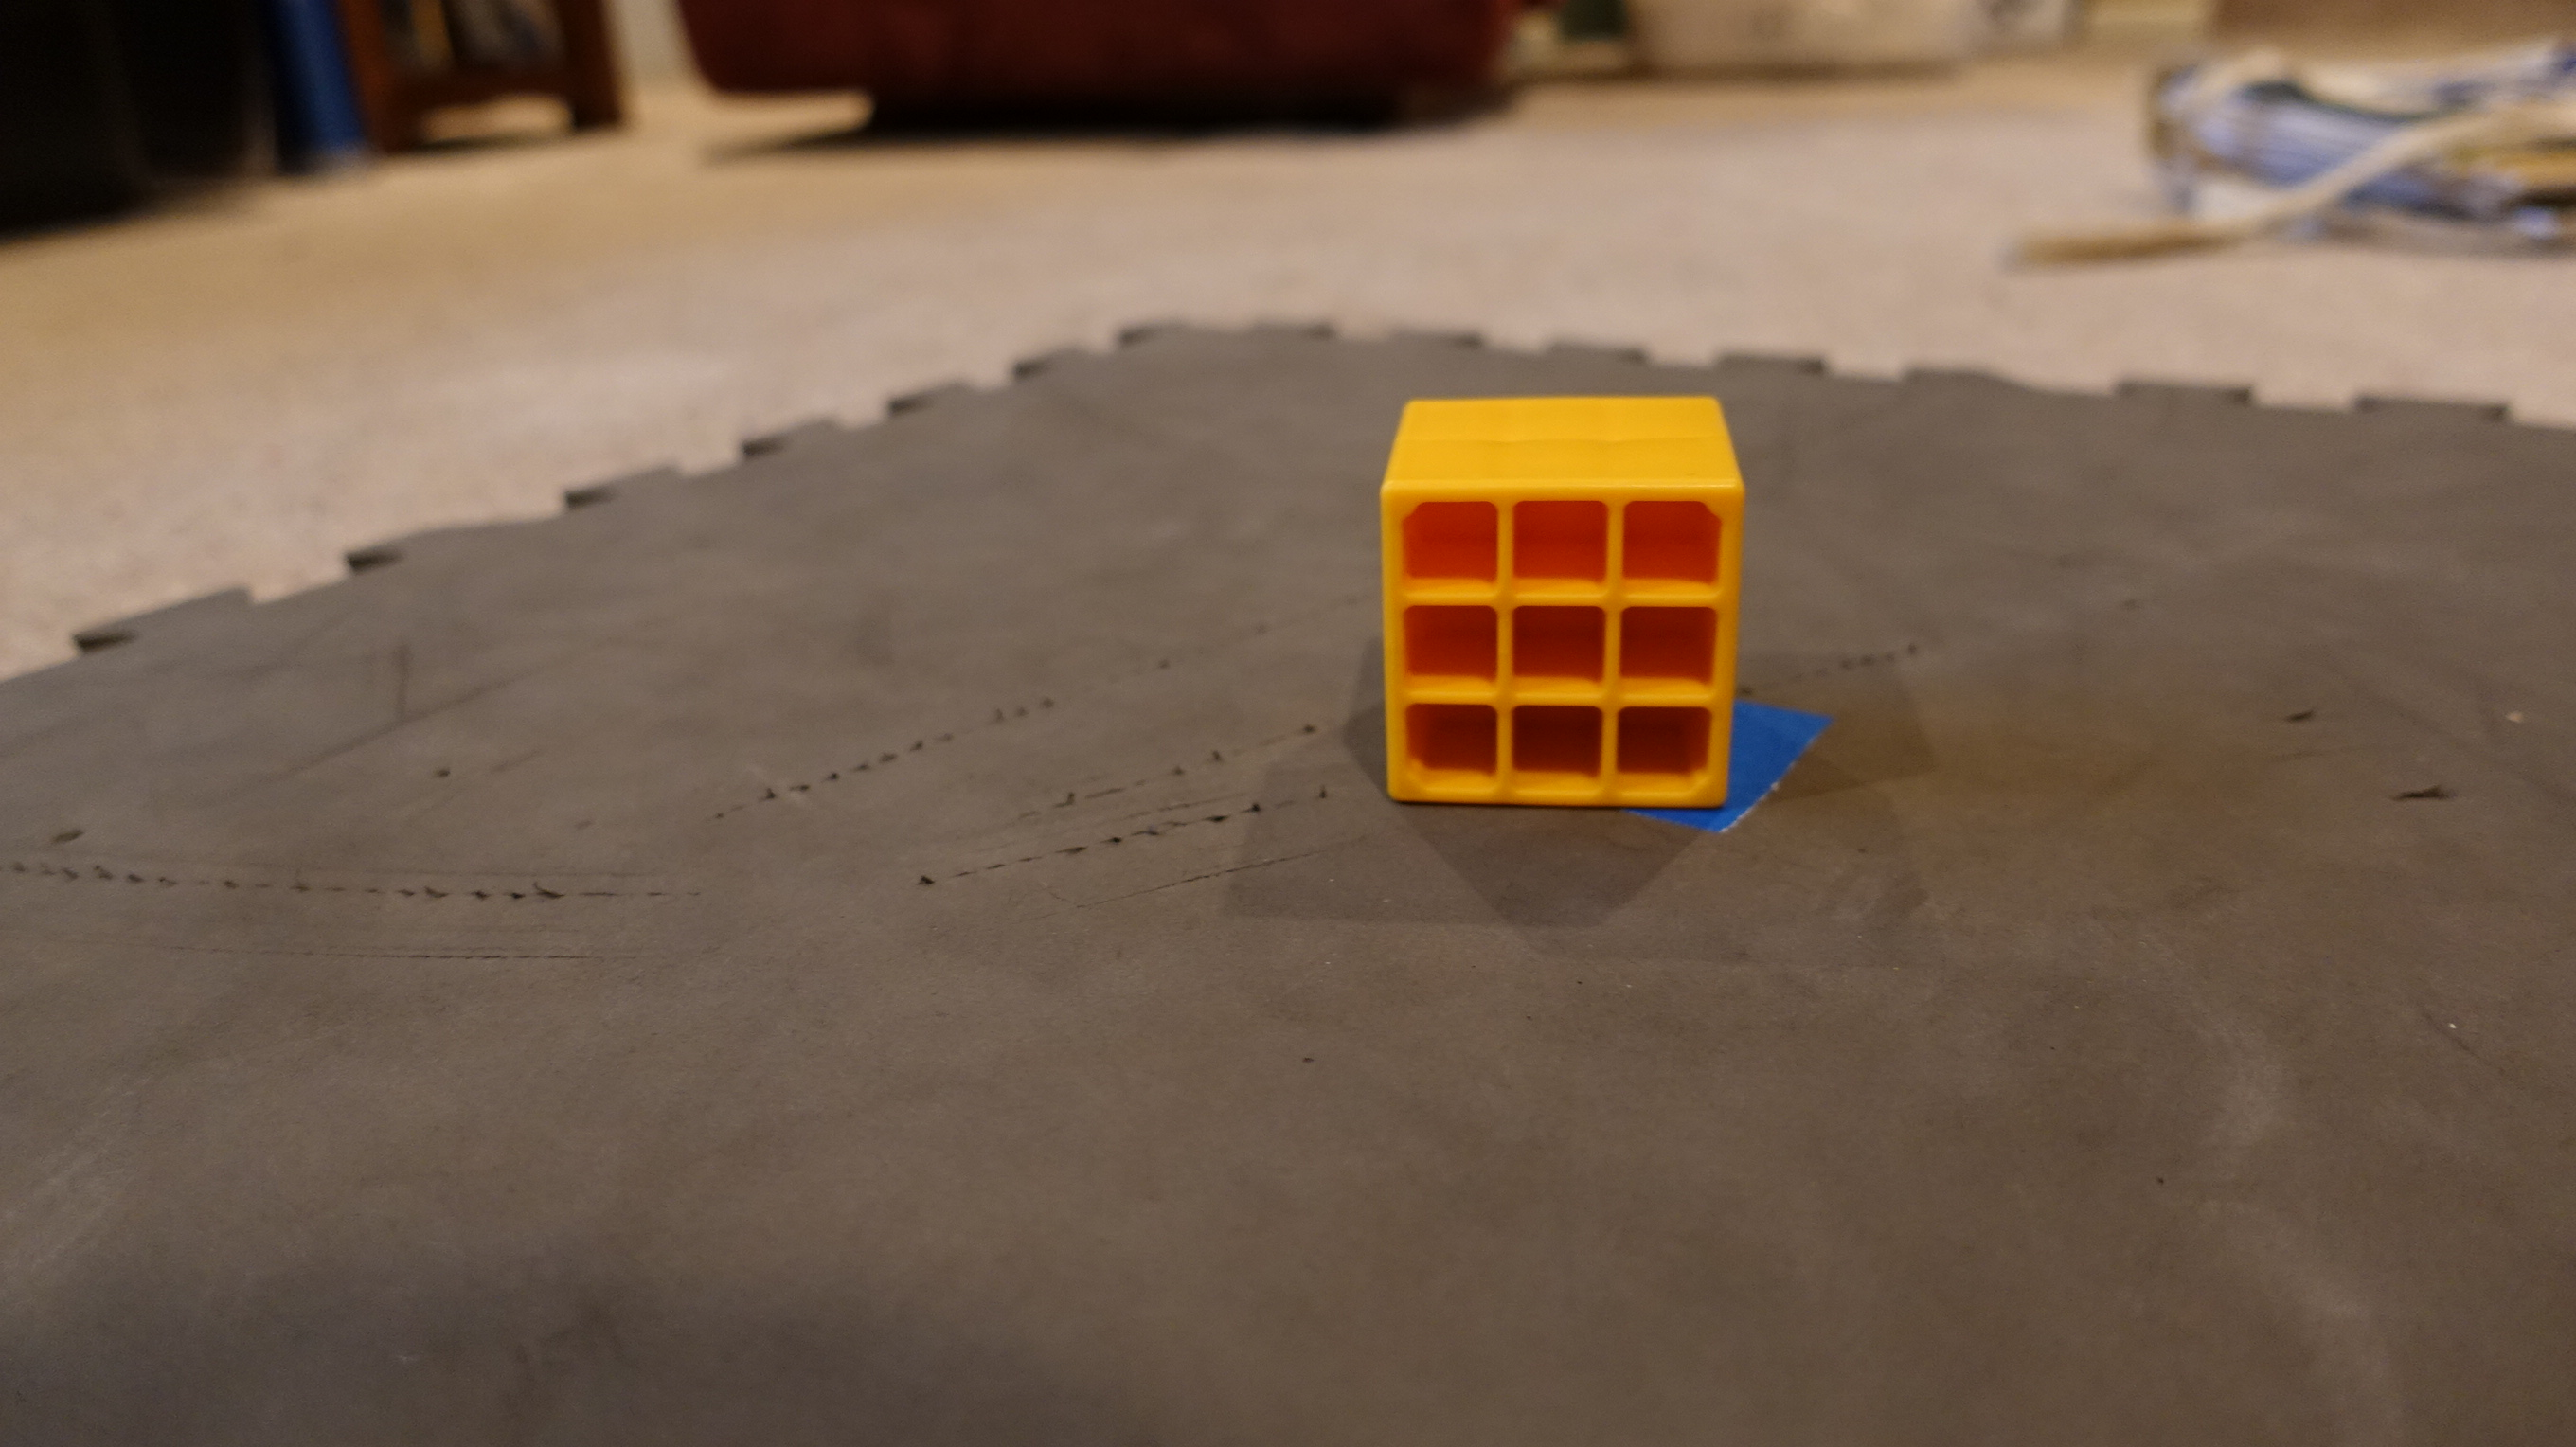gold: (1371, 380, 1753, 819)
